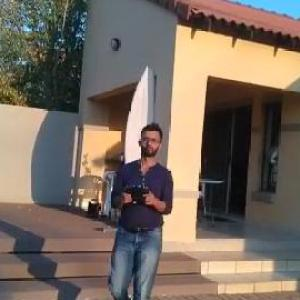follow: (104, 115, 176, 299)
